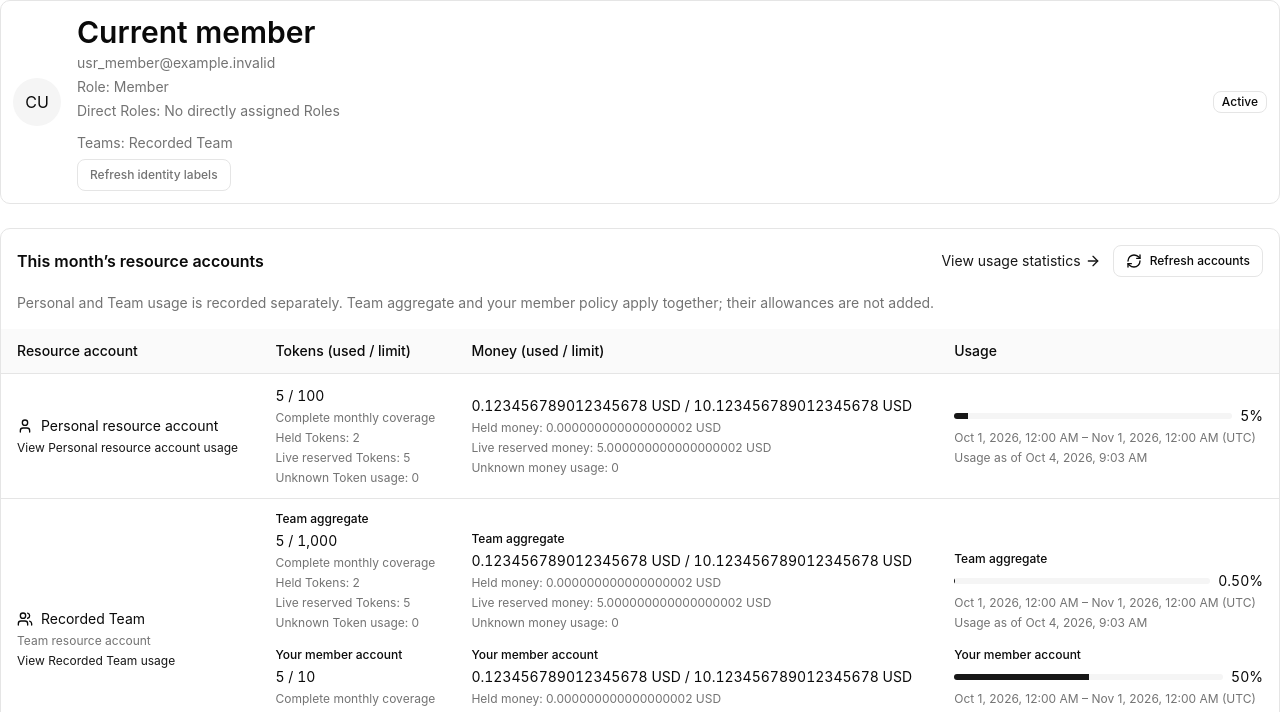
Test case: monthly member Overview › keeps live reservations separate from monthly settled usage, retained holds and the usage rate
Expected: the row that starts with "Personal resource account" shows "5 / 100", [1,374,1279,498]
Expected: the row that starts with "Personal resource account" shows "Held Tokens: 2", [276,430,360,445]
What coordinates should you click on to do the following:
click the button "Refresh accounts"
I would click on:
 (1188, 261)
Its box is [1113,245,1263,277].
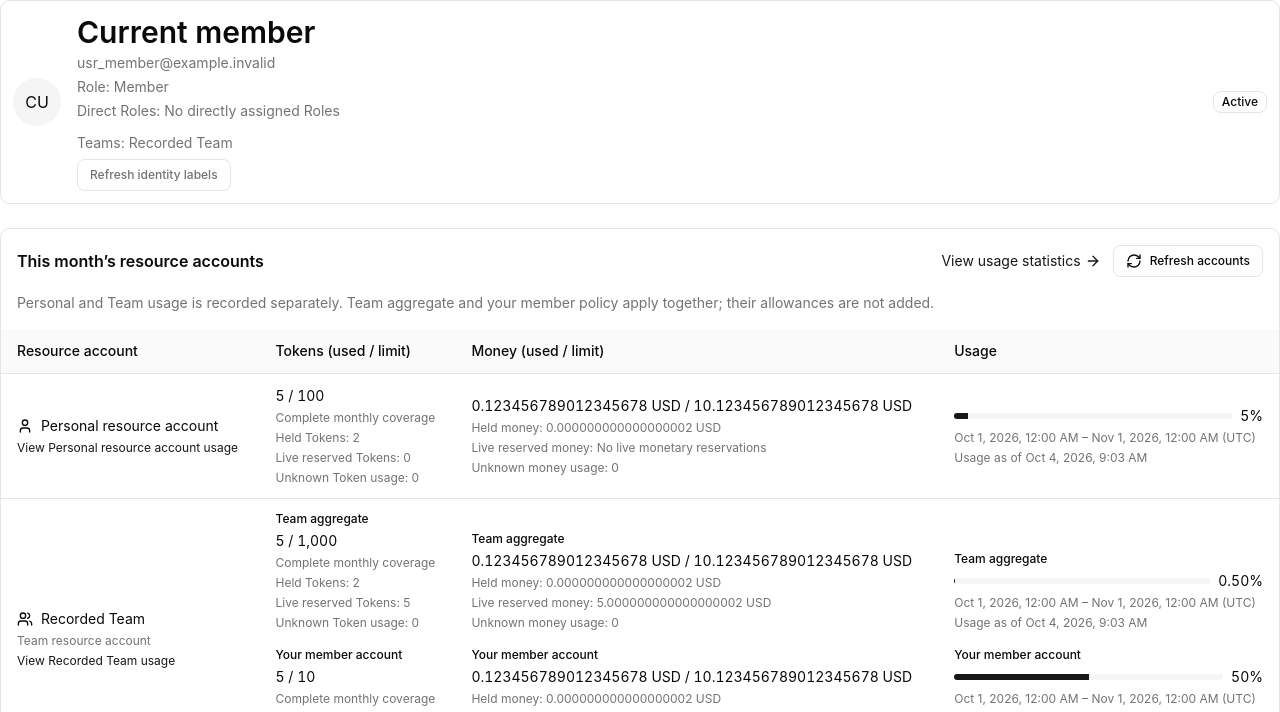
Expected: the row that starts with "Personal resource account" shows "Held Tokens: 2", [276,430,360,445]
Result: the row that starts with "Personal resource account" shows "Live reserved Tokens: 0" at [276,450,411,465]
Result: the row that starts with "Personal resource account" shows "No live monetary reservations" at [471,440,767,455]
